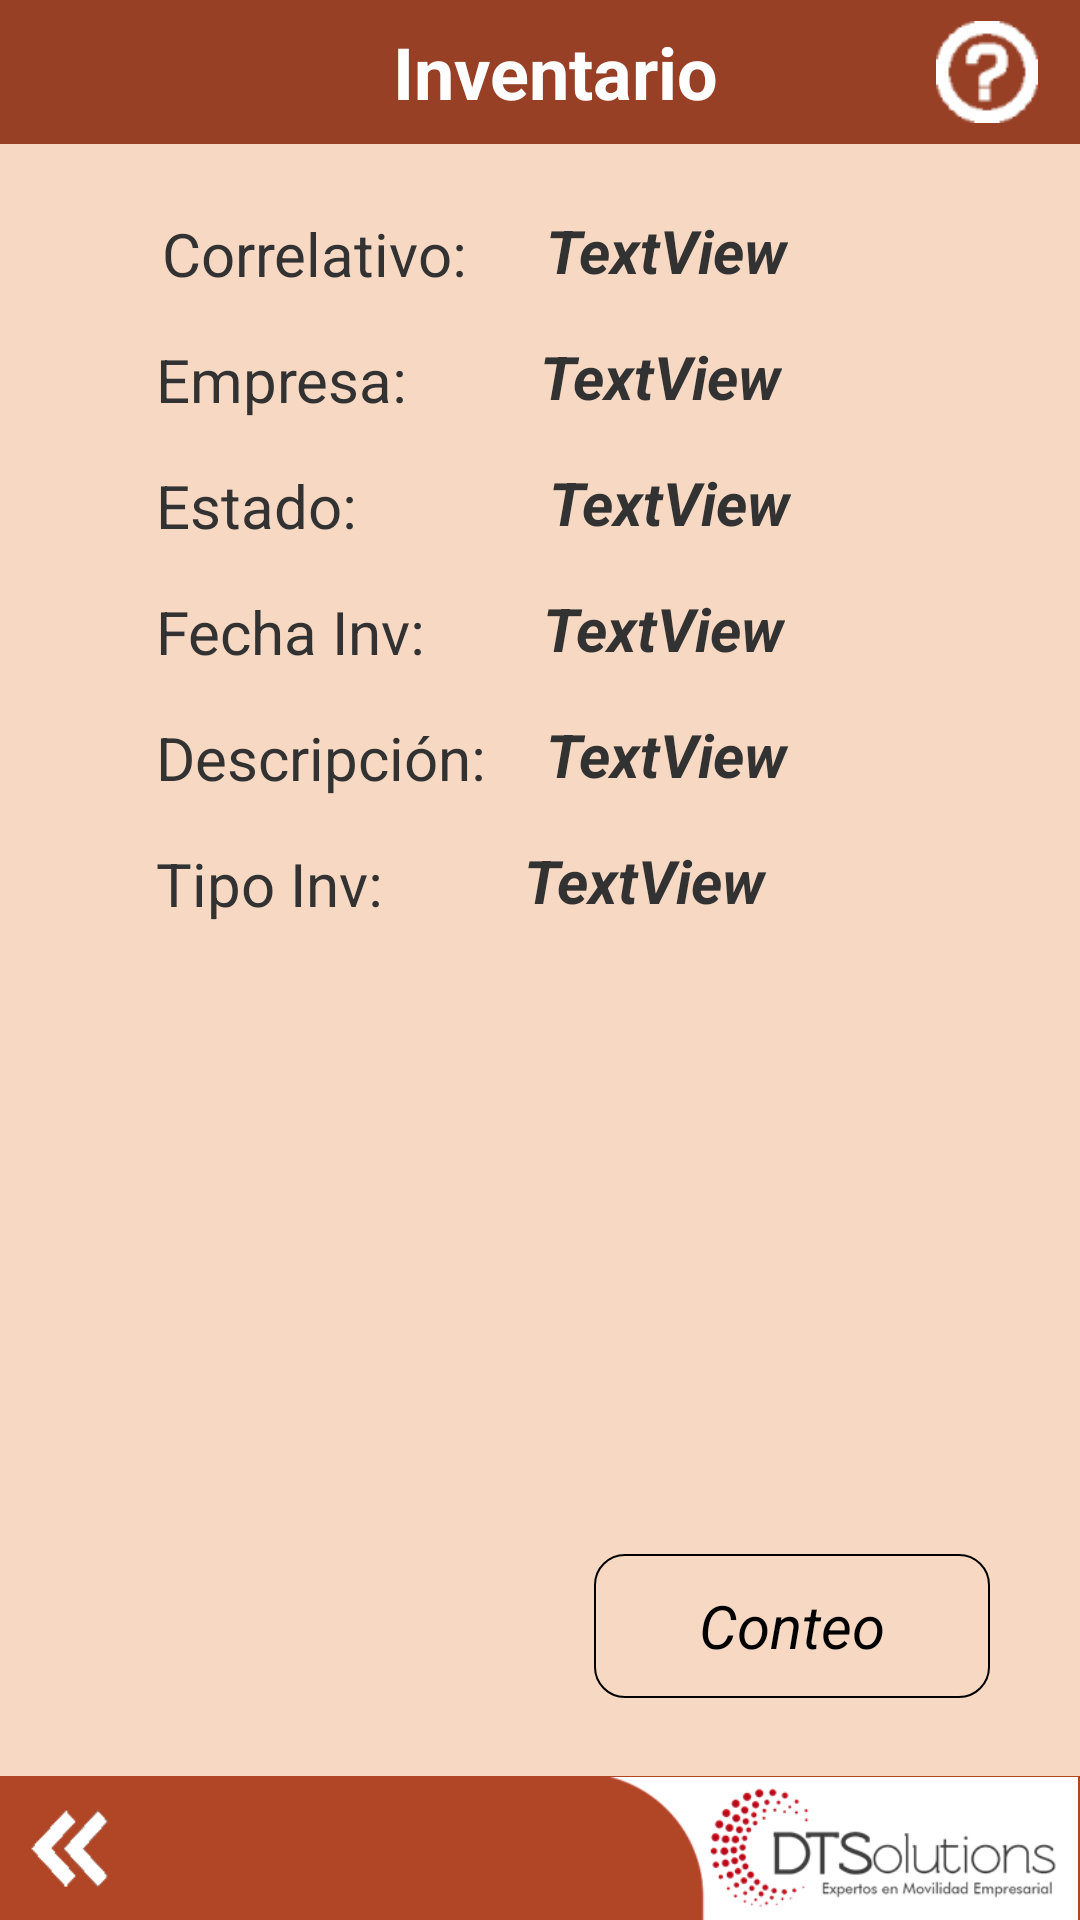

Point at icon controls on the screen. Image size 1080 x 1920, points as (x=x, y=y).
arr prev: (x=69, y=1848)
help: (x=987, y=72)
